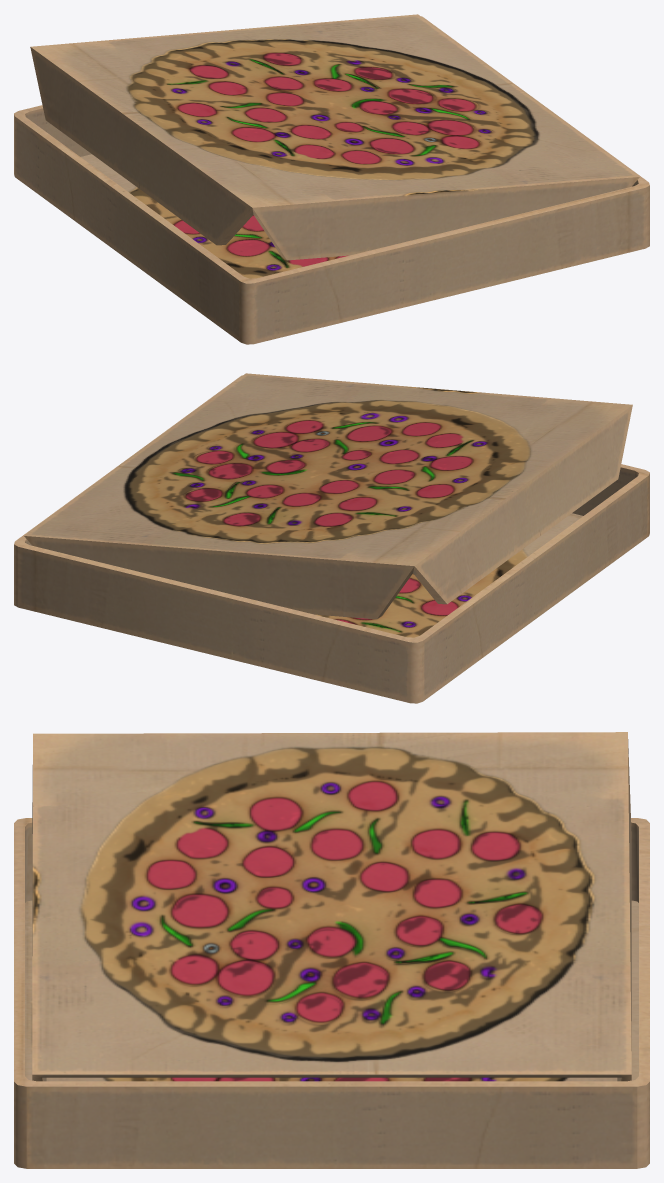
The model's file is SM_PizzaBox_C.fbx.
3 views of the same model, one above another, from view 1: azimuth 30°, elevation 25°; view 2: azimuth 150°, elevation 25°; view 3: azimuth 270°, elevation 25° (orthographic). The views are drawn at different scales.
Visible parts, largest first — view 1: SM_PizzaBox_C_LOD0; view 2: SM_PizzaBox_C_LOD0; view 3: SM_PizzaBox_C_LOD0.
Boxes of the visible parts, bbox=[...] form: SM_PizzaBox_C_LOD0: bbox=[14, 14, 649, 344]; SM_PizzaBox_C_LOD0: bbox=[14, 373, 649, 703]; SM_PizzaBox_C_LOD0: bbox=[14, 732, 649, 1168].
Bounding box in the file's own units: 61.36 × 61.36 × 18.71.
1 material, 1 textured.
